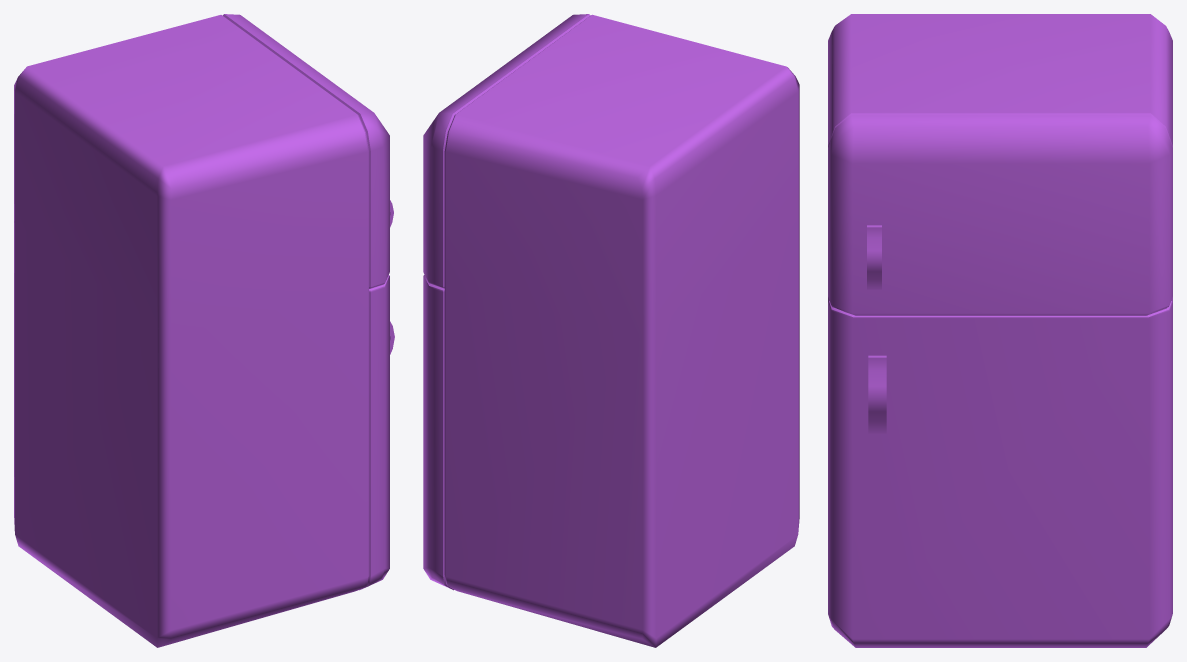
File: Friday_Fridge.fbx
3 renders of one model, left to right at view 1: azimuth 30°, elevation 25°; view 2: azimuth 150°, elevation 25°; view 3: azimuth 270°, elevation 25°, orthographic. The views are drawn at different scales.
Parts seen in each view (by area): view 1: Frdige; view 2: Frdige; view 3: Frdige.
Part boxes in pixels (left/top/right/bottom): Frdige: left=14, top=14, right=394, bottom=647; Frdige: left=423, top=14, right=799, bottom=647; Frdige: left=828, top=14, right=1172, bottom=647.
Size of the model in its own units: 31.56 by 58.65 by 34.5.
